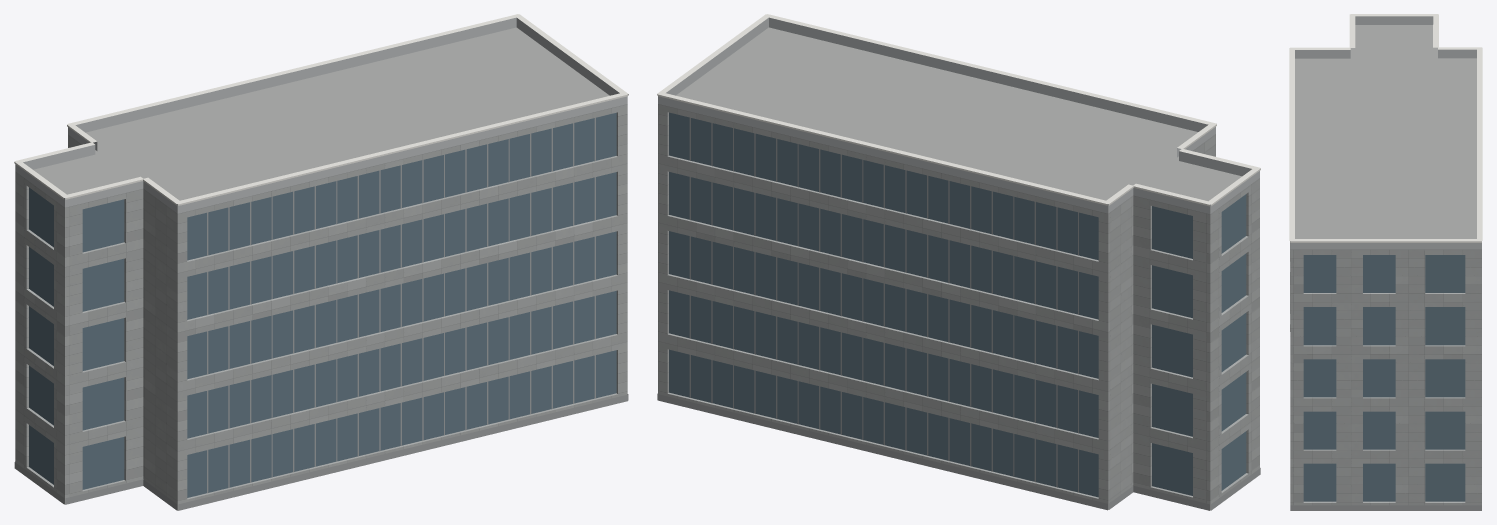
The picture shows the model from 3 angles, left to right: view 1: azimuth 30°, elevation 25°; view 2: azimuth 150°, elevation 25°; view 3: azimuth 270°, elevation 25°; orthographic projection. The views are drawn at different scales.
Parts seen in each view (by area): view 1: choeYangeop__glass, choeYangeop__wall, choeYangeop__roof, choeYangeop__parapet, choeYangeop__frame, choeYangeop__trim, choeYangeop__base; view 2: choeYangeop__glass, choeYangeop__wall, choeYangeop__roof, choeYangeop__parapet, choeYangeop__frame, choeYangeop__trim, choeYangeop__base; view 3: choeYangeop__roof, choeYangeop__wall, choeYangeop__glass, choeYangeop__trim, choeYangeop__parapet, choeYangeop__base.
Boxes of the visible parts, bbox=[...] form: choeYangeop__glass: bbox=[29, 112, 616, 497]; choeYangeop__wall: bbox=[15, 104, 627, 510]; choeYangeop__roof: bbox=[33, 27, 609, 200]; choeYangeop__parapet: bbox=[15, 17, 627, 213]; choeYangeop__frame: bbox=[207, 117, 595, 493]; choeYangeop__trim: bbox=[14, 14, 628, 205]; choeYangeop__base: bbox=[14, 394, 628, 510]; choeYangeop__glass: bbox=[669, 112, 1246, 497]; choeYangeop__wall: bbox=[658, 104, 1259, 510]; choeYangeop__roof: bbox=[676, 27, 1241, 201]; choeYangeop__parapet: bbox=[658, 17, 1259, 214]; choeYangeop__frame: bbox=[689, 117, 1078, 492]; choeYangeop__trim: bbox=[657, 14, 1260, 206]; choeYangeop__base: bbox=[657, 393, 1260, 510]; choeYangeop__roof: bbox=[1295, 25, 1476, 238]; choeYangeop__wall: bbox=[1290, 241, 1481, 505]; choeYangeop__glass: bbox=[1303, 255, 1465, 501]; choeYangeop__trim: bbox=[1289, 14, 1482, 242]; choeYangeop__parapet: bbox=[1290, 16, 1481, 249]; choeYangeop__base: bbox=[1290, 505, 1481, 510].
Size of the model in its own units: 33.64 by 18.6 by 12.1.
7 materials, 1 textured.
